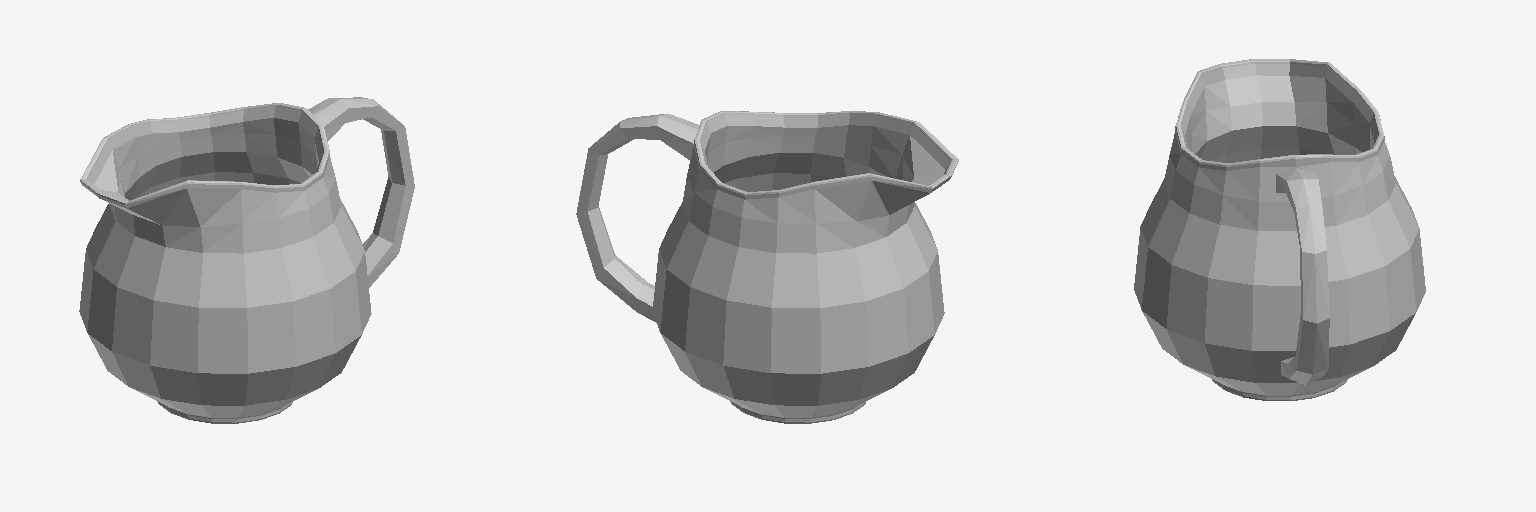
File: Milk.obj
The picture shows the model from 3 angles: view 1: azimuth 30°, elevation 25°; view 2: azimuth 150°, elevation 25°; view 3: azimuth 270°, elevation 25°; orthographic projection.
Visible parts, largest first — view 1: Jug_for_milk; view 2: Jug_for_milk; view 3: Jug_for_milk.
Boxes of the visible parts, box(x1,y1,x2,y2) form: Jug_for_milk: box(79, 97, 414, 423); Jug_for_milk: box(576, 111, 958, 423); Jug_for_milk: box(1134, 59, 1425, 400).
Bounding box in the file's own units: 1.72 × 1.26 × 1.27.